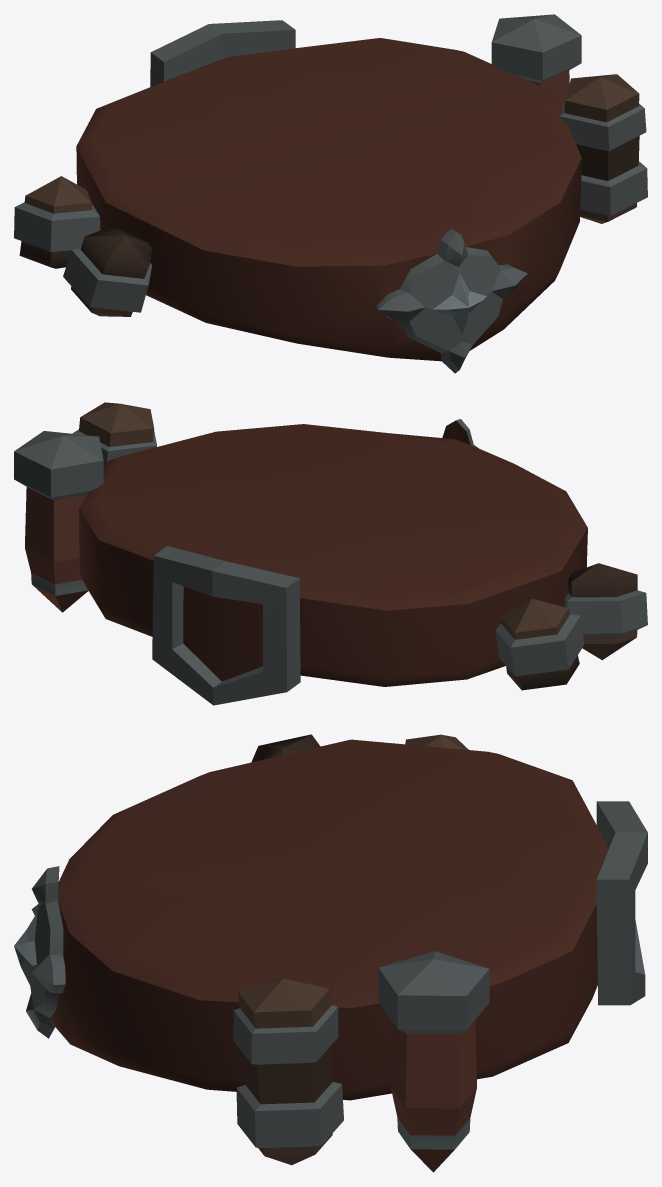
The model's file is Top_53.fbx.
3 views of the same model, one above another, from view 1: azimuth 30°, elevation 25°; view 2: azimuth 150°, elevation 25°; view 3: azimuth 270°, elevation 25° (orthographic). The views are drawn at different scales.
Parts seen in each view (by area): view 1: Top_53; view 2: Top_53; view 3: Top_53.
Part boxes in pixels (x1,y1,x2,y2): Top_53: [14, 14, 647, 373]; Top_53: [14, 402, 647, 705]; Top_53: [14, 734, 647, 1172].
Bounding box in the file's own units: 54.44 × 16.96 × 44.2.
